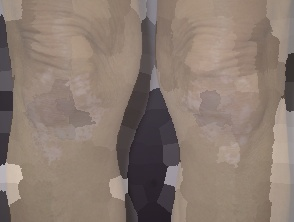vitiligo: (150, 35, 294, 190), (18, 50, 118, 175)
